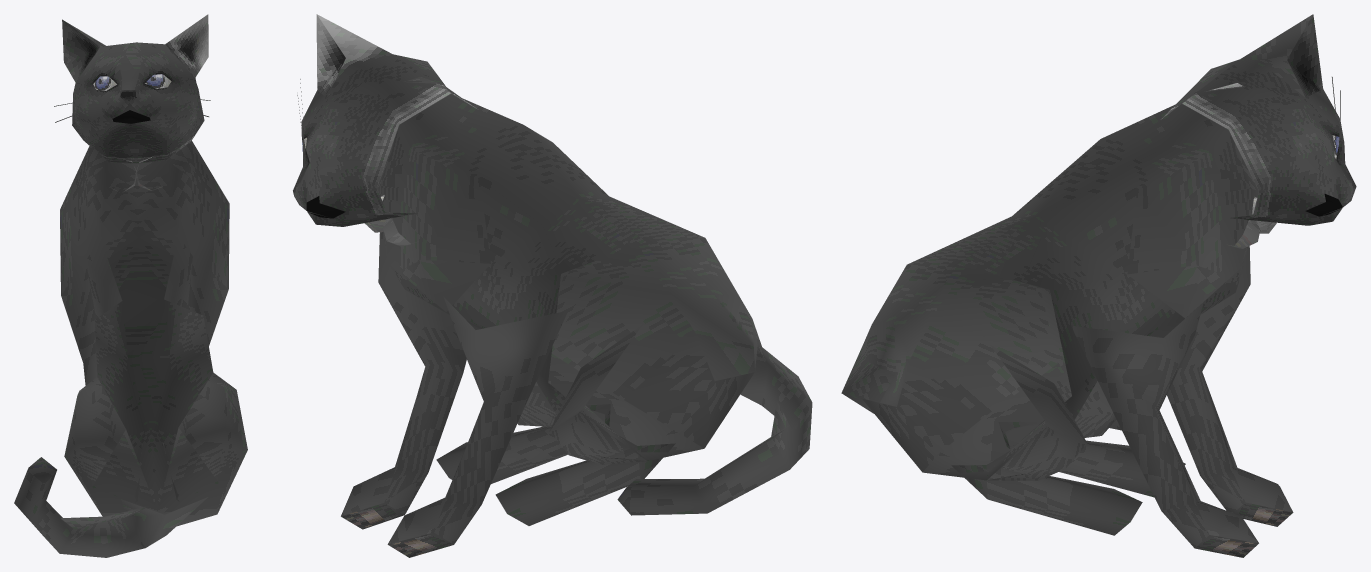
File: ps2_save-icons_digital-devil-saga.glb
3 renders of one model, left to right at view 1: azimuth 30°, elevation 25°; view 2: azimuth 150°, elevation 25°; view 3: azimuth 270°, elevation 25°, orthographic. The views are drawn at different scales.
Visible parts, largest first — view 1: base.ico; view 2: base.ico; view 3: base.ico.
Boxes of the visible parts, <box> form: base.ico: <box>14,14,247,557</box>; base.ico: <box>293,14,812,557</box>; base.ico: <box>841,14,1356,557</box>.
Bounding box in the file's own units: 3.56 × 4.56 × 4.36.
Materials: 1 (1 with a texture image).
